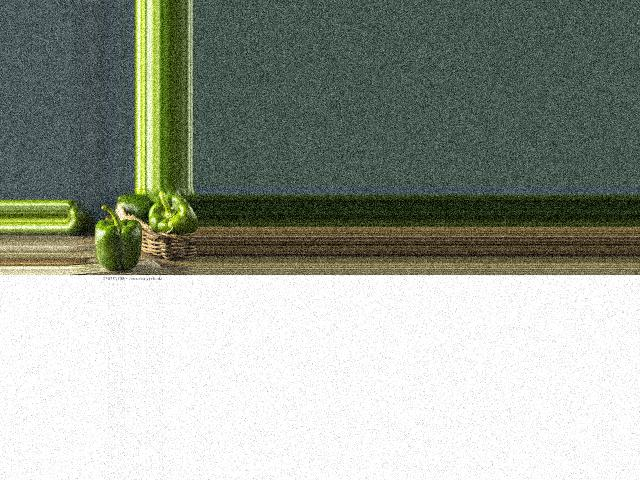bell_pepper: (66, 200, 85, 229)
